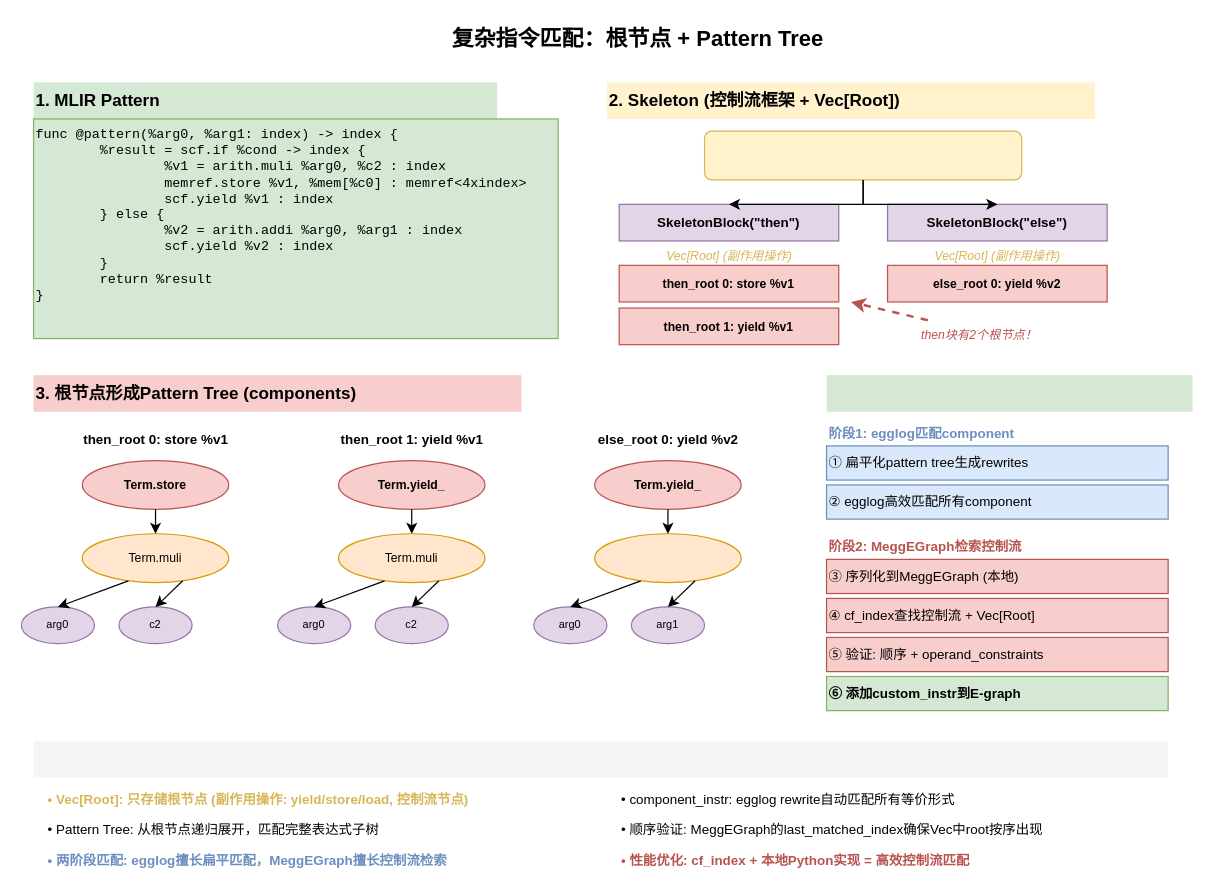
This 1214x895 diagram has some shape labels left out. The centre of each missing label's shape, as x and y in pixels:
"4. 两阶段匹配流程" belongs at [1009,393].
"SkeletonNode(scf.if)" belongs at [862,155].
"Term.addi" belongs at [667,558].
"核心要点" belongs at [600,759].
